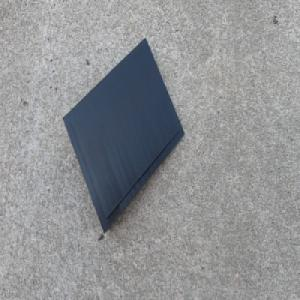PlasticPart: (61, 35, 185, 235)
